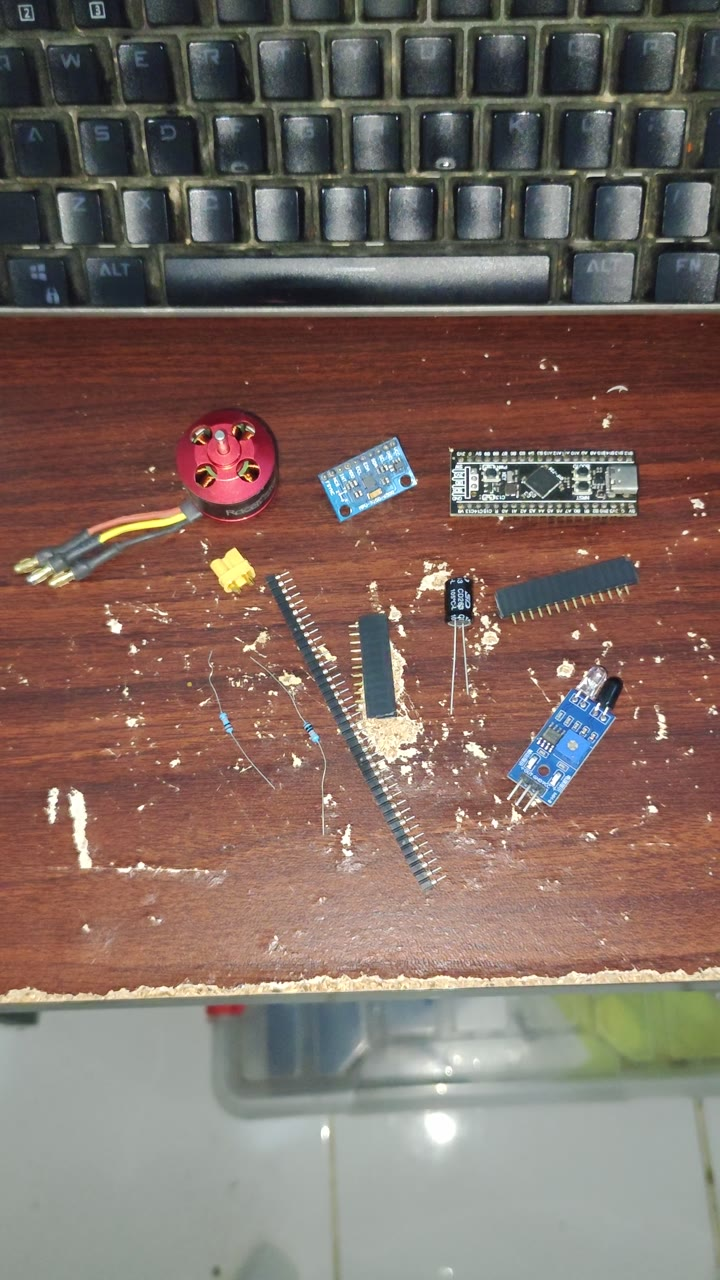bldc_motor: (79, 418, 285, 535)
elco_capacitor: (430, 568, 492, 680)
ir_sensor: (501, 660, 625, 816)
mpu6500: (313, 433, 421, 524)
pin_header: (255, 578, 464, 906), (489, 545, 642, 626), (341, 597, 419, 721)
resistor: (261, 669, 353, 822), (183, 668, 273, 792)
stm32f4: (442, 447, 645, 521)
xt30_female: (208, 546, 256, 595)
